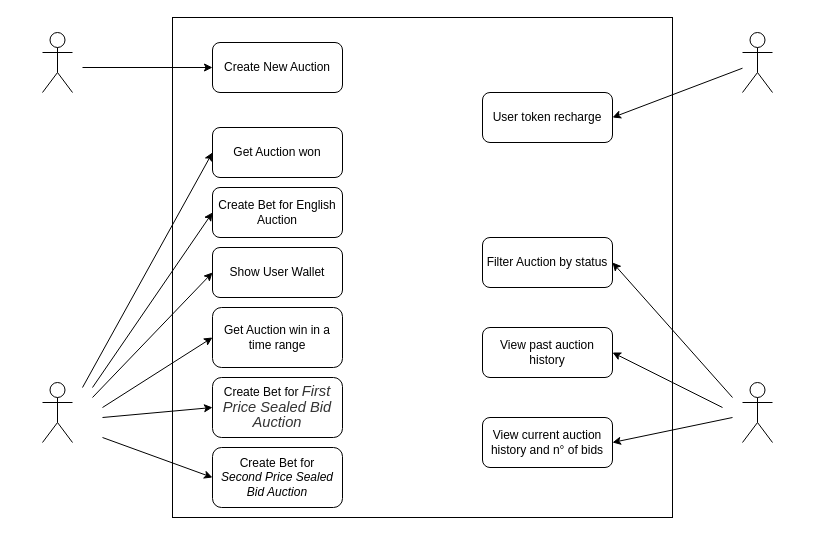
The diagram is 833 pixels wide and 535 high, and some of its shapes have lost their labels. Each missing label, with the centre of its shape:
"Admin" goes at point 757,62.
"Bip Creator" goes at point 57,62.
"Bip Partecipant" goes at point 57,412.
"Unauthenticated User" goes at point 757,412.
